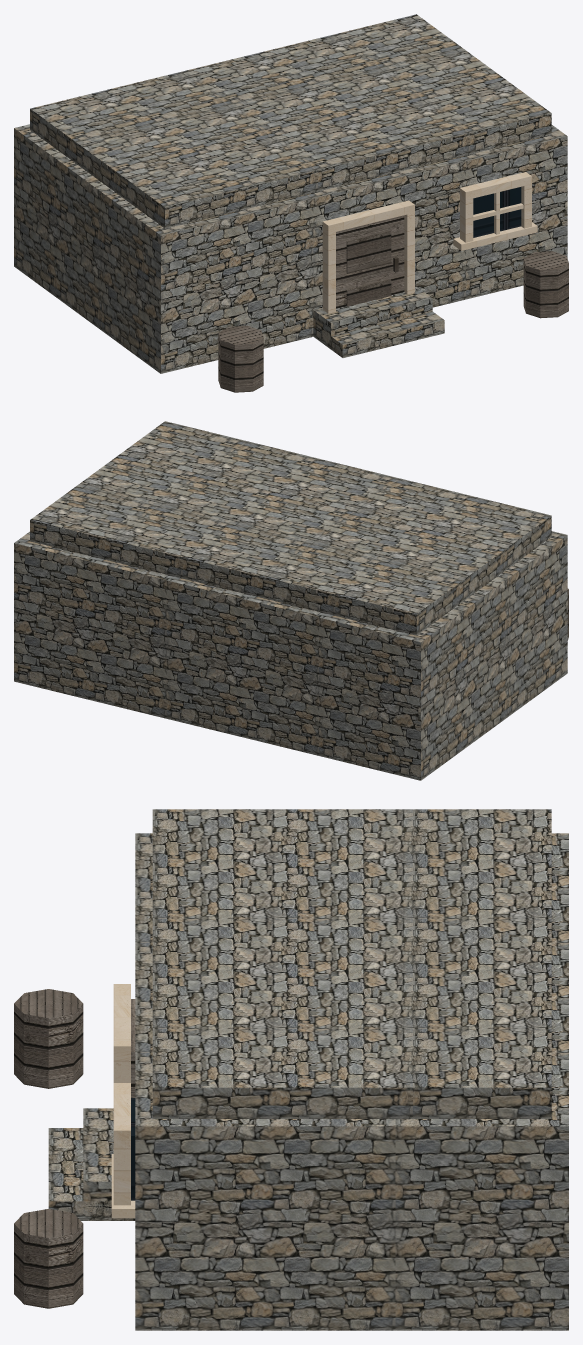
Rendered from root-cellar_lod0.gltf.
The picture shows the model from 3 angles, top to bottom: view 1: azimuth 30°, elevation 25°; view 2: azimuth 150°, elevation 25°; view 3: azimuth 270°, elevation 25°; orthographic projection. The views are drawn at different scales.
Parts seen in each view (by area): view 1: root-cellar_main, root-cellar__berm_cap, root-cellar_fen_04-limestone_0, root-cellar_fen_18-timber-siding_1, root-cellar__step_b, root-cellar__barrel_a, root-cellar__barrel_b, root-cellar__step_a, root-cellar_fen_18-timber-siding_2_t, root-cellar_fen_07-glass-curtain-blue_4_t; view 2: root-cellar_main, root-cellar__berm_cap; view 3: root-cellar__berm_cap, root-cellar_main, root-cellar__barrel_a, root-cellar__barrel_b, root-cellar_fen_04-limestone_0, root-cellar__step_a, root-cellar__step_b.
Boxes of the visible parts, box(x1,y1,x2,y2) form: root-cellar_main: box(14, 124, 567, 373); root-cellar__berm_cap: box(30, 14, 551, 228); root-cellar_fen_04-limestone_0: box(322, 172, 537, 313); root-cellar_fen_18-timber-siding_1: box(336, 215, 404, 308); root-cellar__step_b: box(313, 285, 432, 349); root-cellar__barrel_a: box(218, 325, 263, 392); root-cellar__barrel_b: box(523, 251, 568, 318); root-cellar__step_a: box(313, 311, 444, 357); root-cellar_fen_18-timber-siding_2_t: box(346, 230, 391, 306); root-cellar_fen_07-glass-curtain-blue_4_t: box(473, 187, 521, 237); root-cellar_main: box(14, 531, 567, 780); root-cellar__berm_cap: box(30, 421, 551, 635); root-cellar__berm_cap: box(152, 809, 551, 1118); root-cellar_main: box(135, 833, 568, 1330); root-cellar__barrel_a: box(14, 989, 83, 1088); root-cellar__barrel_b: box(14, 1208, 83, 1308); root-cellar_fen_04-limestone_0: box(111, 984, 135, 1218); root-cellar__step_a: box(48, 1128, 135, 1220); root-cellar__step_b: box(83, 1108, 134, 1220).
Bounding box in the file's own units: 8 × 3 × 6.4.
